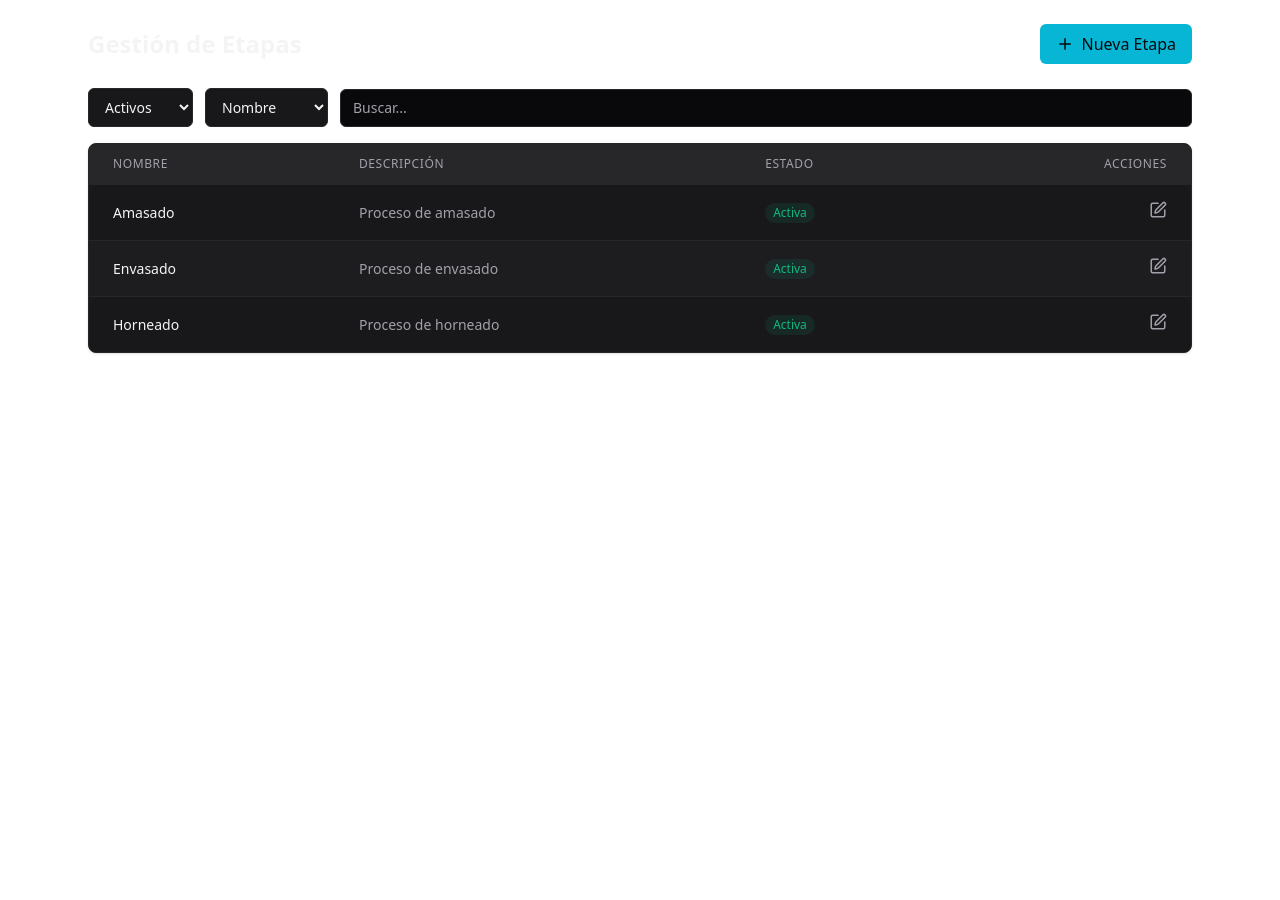
Scenario: EtapasPage › edit modal for inactive etapa renders "Activar Etapa" button; edit modal for active etapa does NOT render it
Check: the text "Amasado" is shown, box [89,184,335,240]
Note: Check active first
Click the button titled "Editar" in the row of "Proceso de amasado": (1158, 210) [1149,201,1167,219]
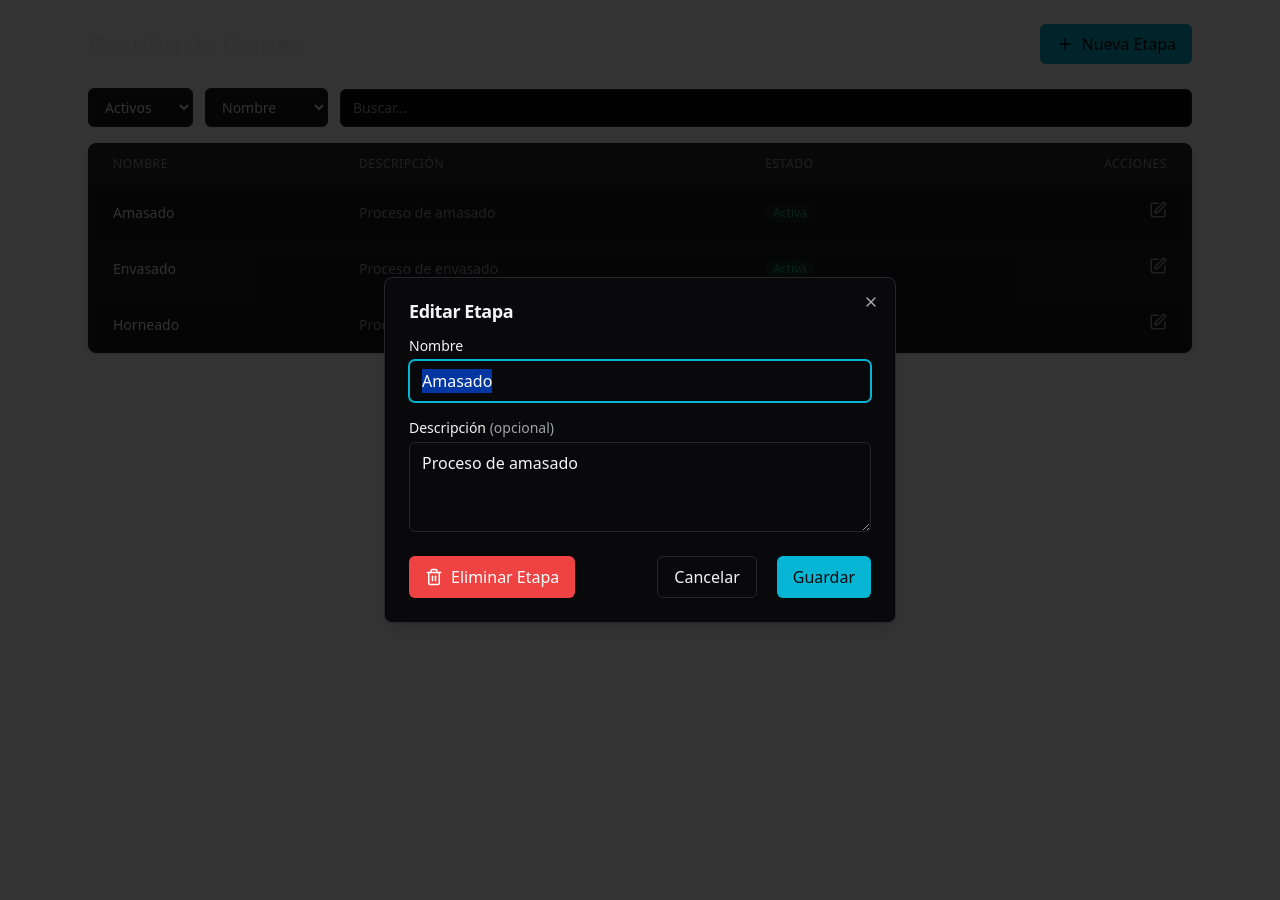
Check: the button "Activar Etapa" is not shown
Check: the heading "Editar Etapa" is shown, box [409,299,513,323]
Note: Close modal
Click the button "Cancelar": (707, 577) [657,556,757,598]
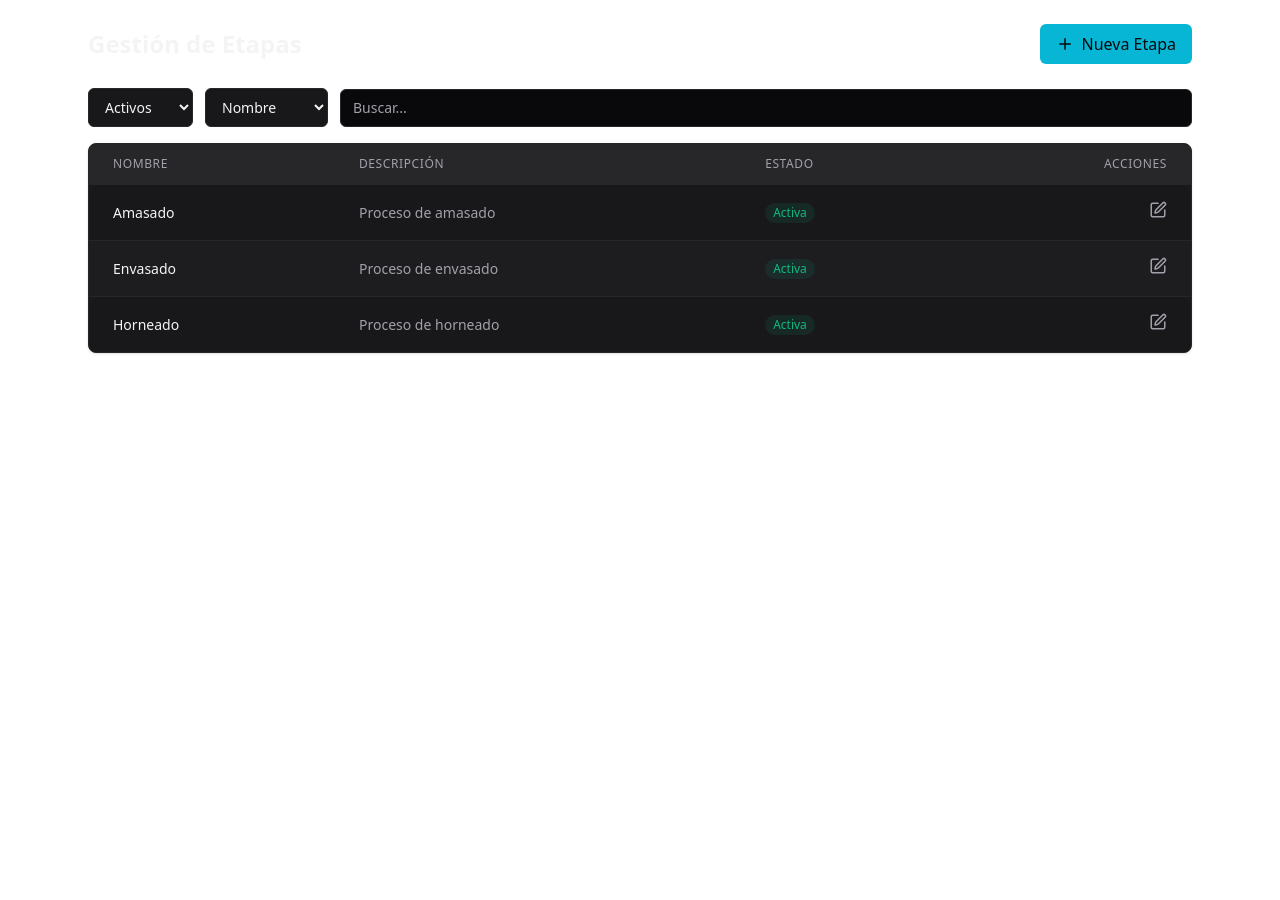
Note: Switch to inactivos
Select "Inactivos" in the 1st dropdown: (140, 108) [88,88,193,127]
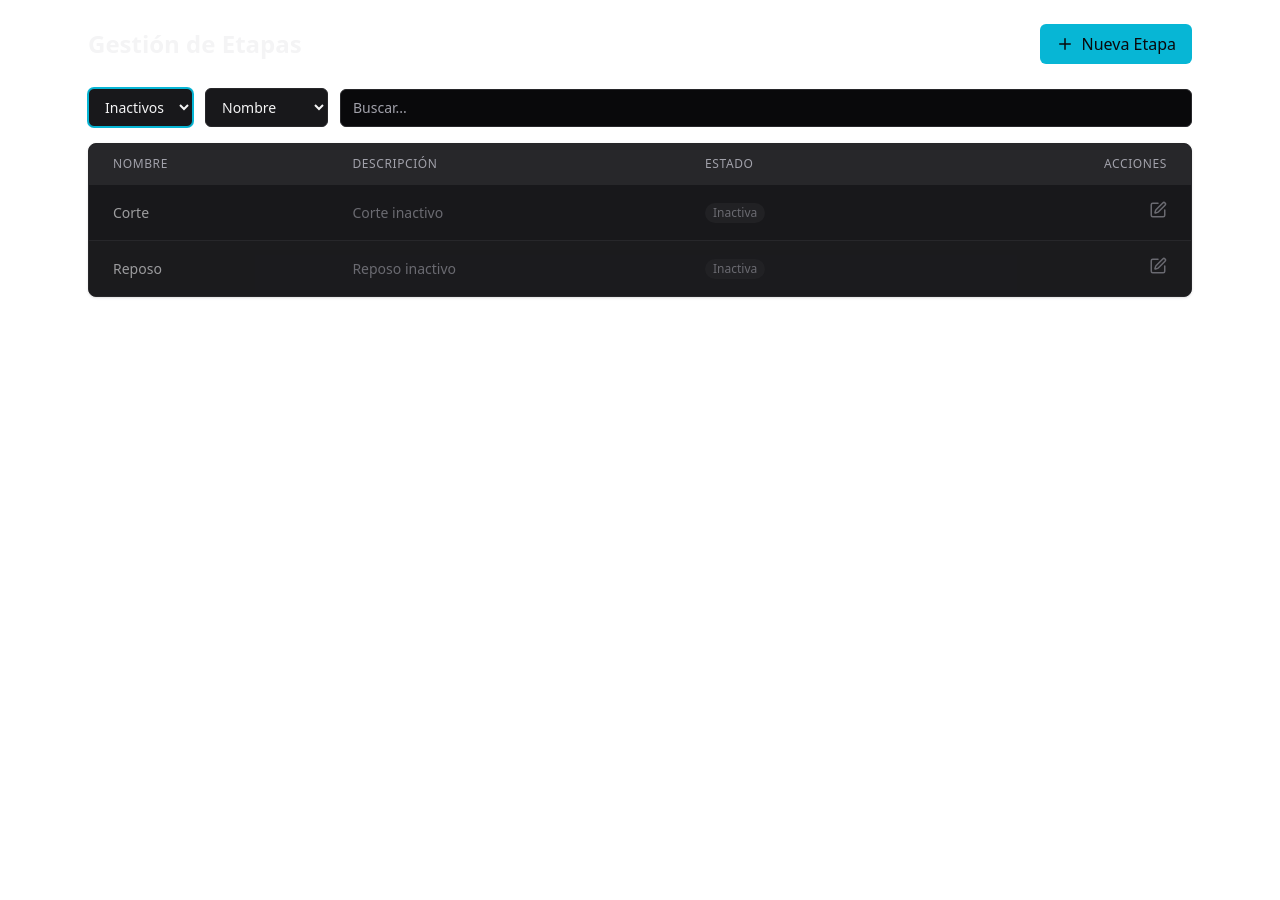
Check: the text "Reposo" is shown, box [89,240,328,296]
Note: Check inactive
Click the button titled "Editar" in the row of "Reposo inactivo": (1158, 266) [1149,257,1167,275]
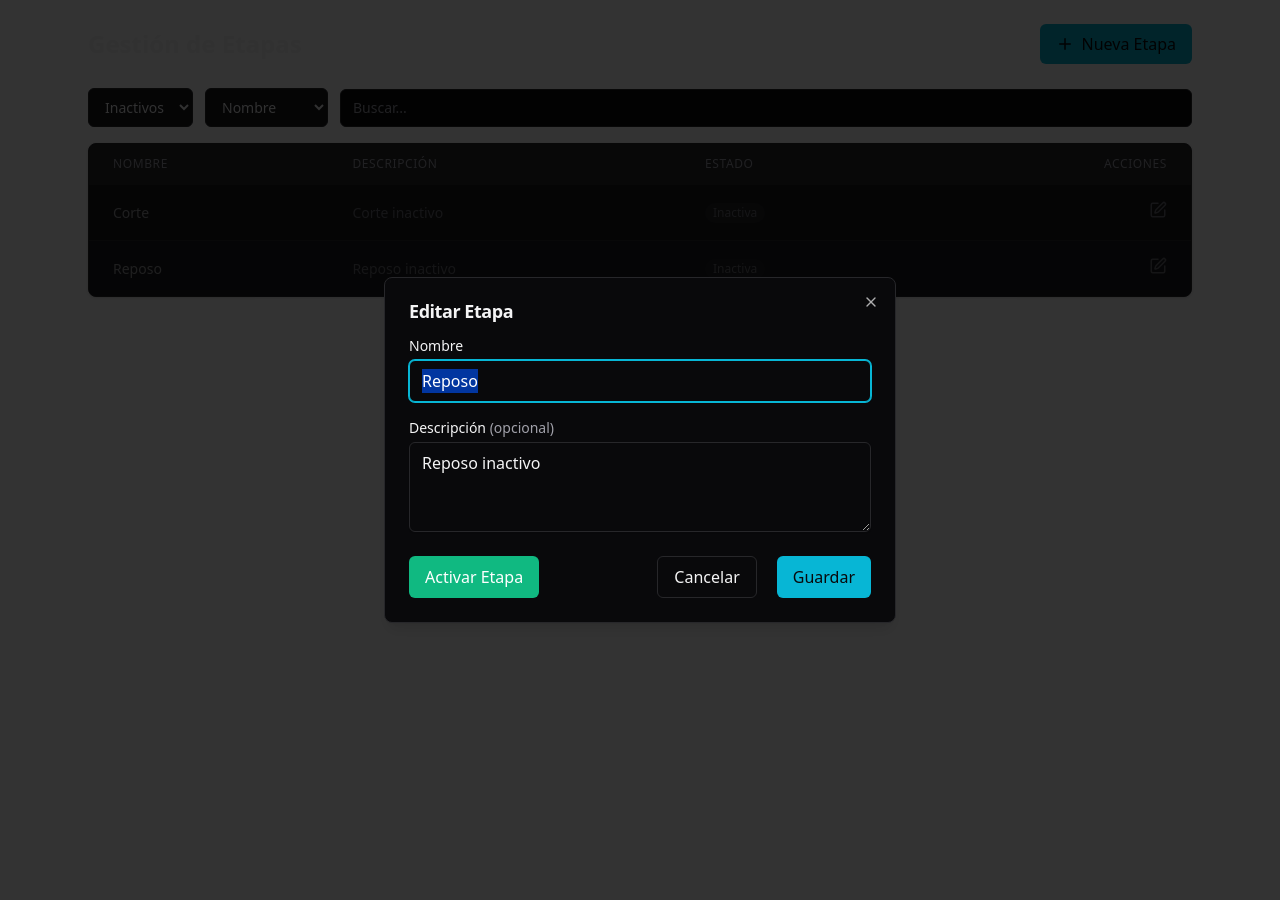
Check: the heading "Editar Etapa" is shown, box [409,299,513,323]
Check: the button "Activar Etapa" is shown, box [409,556,539,598]
